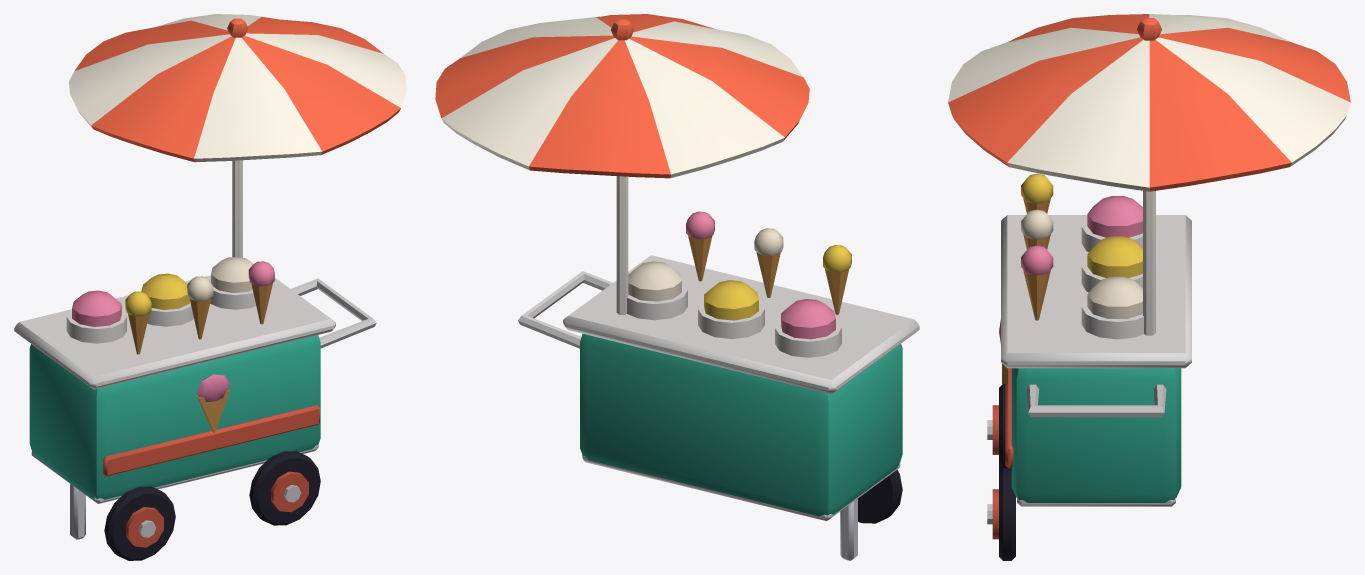
Rendered from ice_cream_cart.glb.
3 views of the same model, side by side, from view 1: azimuth 30°, elevation 25°; view 2: azimuth 150°, elevation 25°; view 3: azimuth 270°, elevation 25° (orthographic). The views are drawn at different scales.
Visible parts, largest first — view 1: ice_cream_cart; view 2: ice_cream_cart; view 3: ice_cream_cart.
Part boxes in pixels (x1,y1,x2,y2): ice_cream_cart: (14, 14, 406, 560); ice_cream_cart: (435, 14, 919, 560); ice_cream_cart: (948, 14, 1350, 560).
Bounding box in the file's own units: 2.3 × 2.84 × 1.9.
